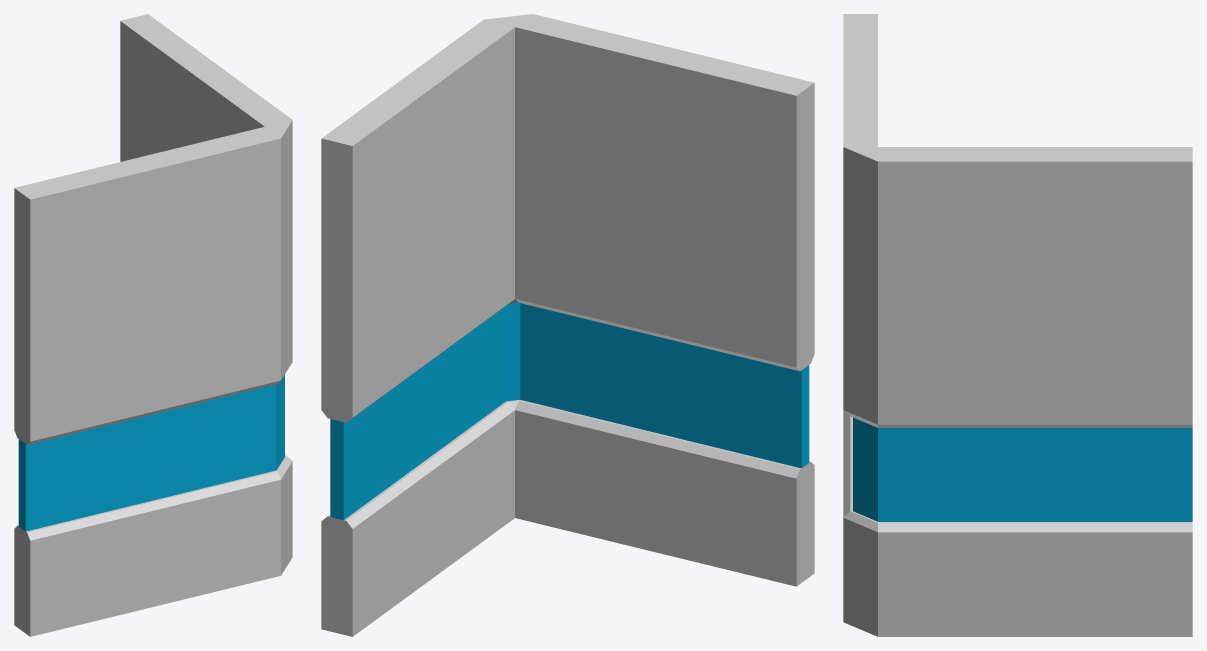
Rendered from K2_wall_313.fbx.
3 views of the same model, side by side, from view 1: azimuth 30°, elevation 25°; view 2: azimuth 150°, elevation 25°; view 3: azimuth 270°, elevation 25° (orthographic). The views are drawn at different scales.
Visible parts, largest first — view 1: group1_polySurface40; view 2: group1_polySurface40; view 3: group1_polySurface40.
Part boxes in pixels (x1,y1,x2,y2): group1_polySurface40: [14, 14, 292, 636]; group1_polySurface40: [321, 14, 814, 636]; group1_polySurface40: [843, 14, 1192, 636].
Bounding box in the file's own units: 20 × 30 × 20.
